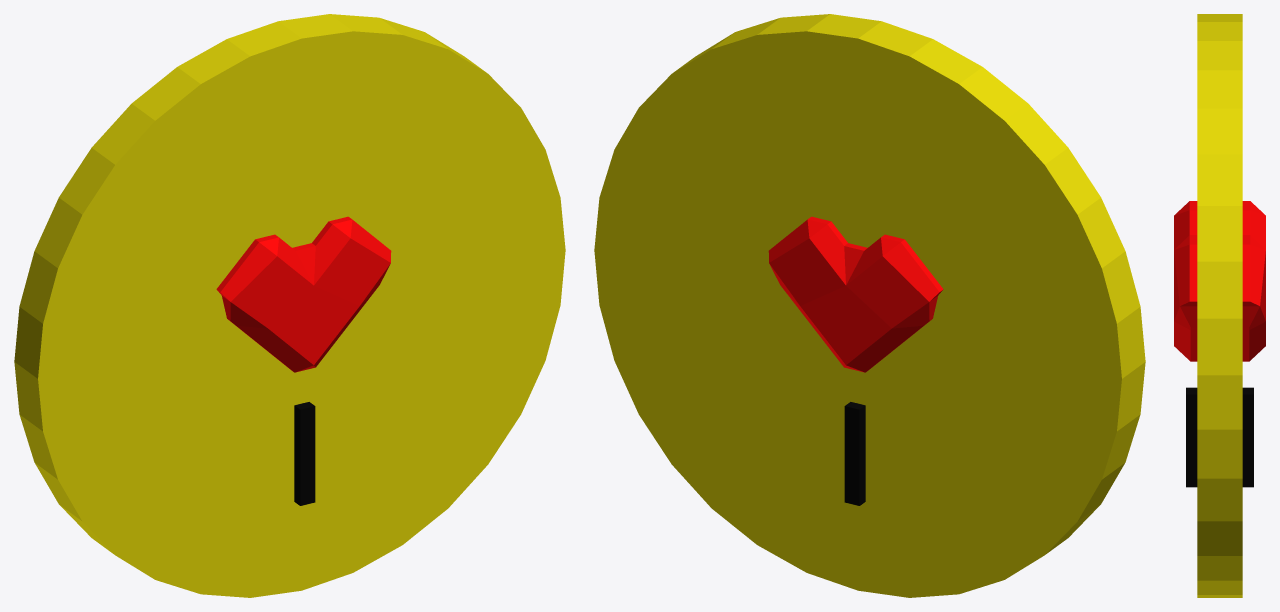
File: HealthRoom1.fbx
The picture shows the model from 3 angles, left to right: view 1: azimuth 30°, elevation 25°; view 2: azimuth 150°, elevation 25°; view 3: azimuth 270°, elevation 25°; orthographic projection. The views are drawn at different scales.
Visible parts, largest first — view 1: Cylinder, Cube.001, Cube; view 2: Cylinder, Cube.001, Cube; view 3: Cylinder, Cube.001, Cube.
Boxes of the visible parts, bbox=[...] form: Cylinder: bbox=[14, 14, 565, 597]; Cube.001: bbox=[216, 216, 391, 372]; Cube: bbox=[294, 402, 315, 505]; Cylinder: bbox=[594, 14, 1145, 597]; Cube.001: bbox=[768, 216, 943, 372]; Cube: bbox=[844, 402, 865, 505]; Cylinder: bbox=[1197, 14, 1242, 597]; Cube.001: bbox=[1174, 201, 1265, 361]; Cube: bbox=[1186, 387, 1253, 487].
Size of the model in its own units: 200 by 200 by 31.46.
